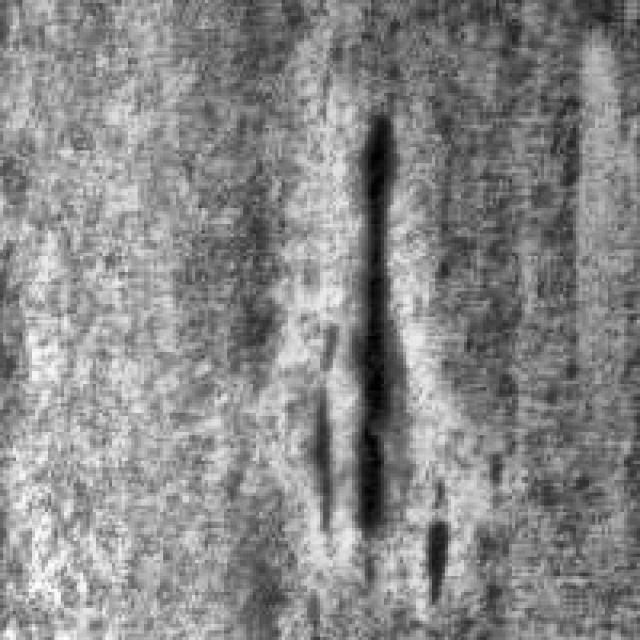Patches: (284, 99, 410, 544)
